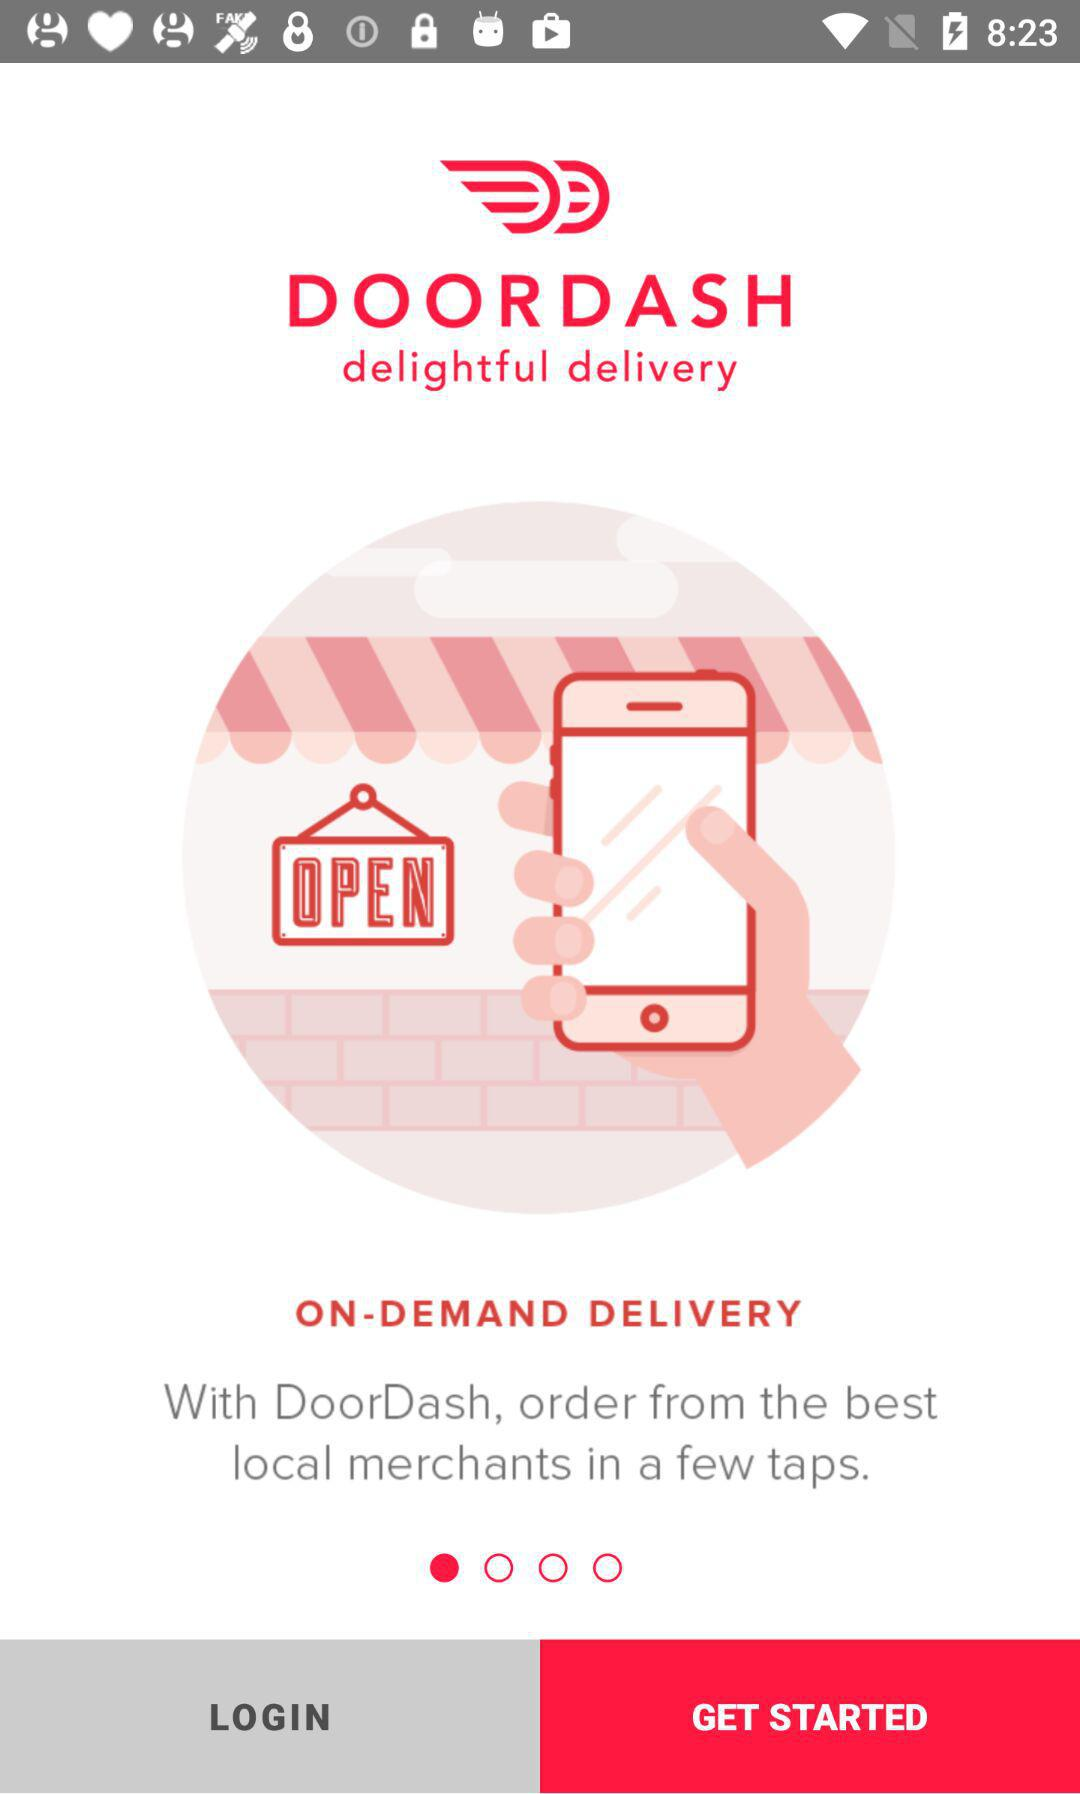Image: (179, 498, 897, 1217), (438, 159, 612, 237)
PageIndicator: (429, 1552, 625, 1585)
Text: (161, 1380, 940, 1492), (288, 272, 794, 331), (342, 349, 739, 395), (295, 1297, 805, 1329)
TextButton: (1, 1639, 541, 1794), (541, 1639, 1080, 1794)
UpperTaskBar: (1, 1, 1080, 64)
